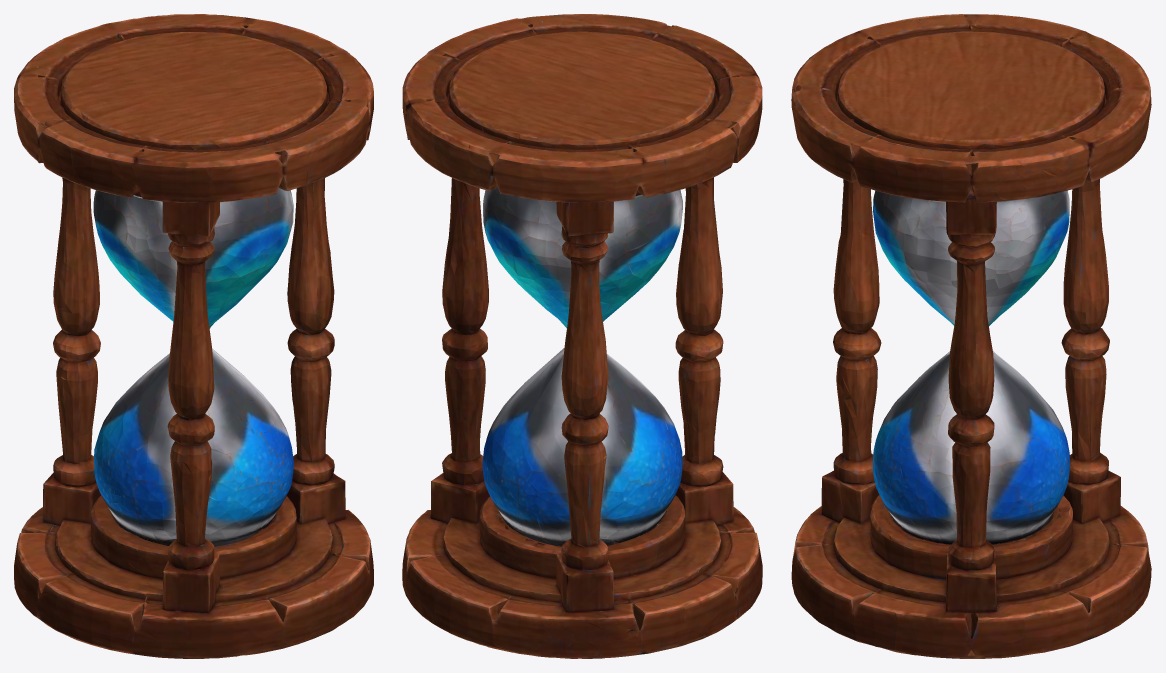
The model's file is dress-hourglass.glb.
The picture shows the model from 3 angles, left to right: view 1: azimuth 30°, elevation 25°; view 2: azimuth 150°, elevation 25°; view 3: azimuth 270°, elevation 25°; orthographic projection.
Size of the model in its own units: 0.651 by 1 by 0.6509.
1 material, 1 textured.
